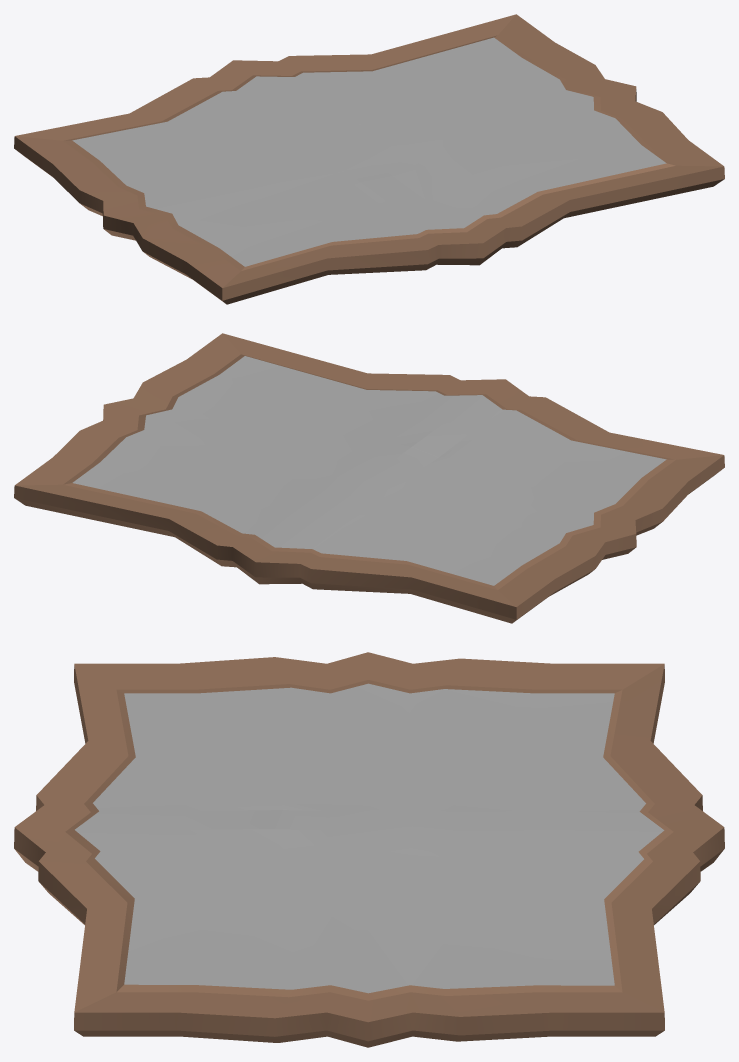
The model's file is mirror_sc.fbx.
3 views of the same model, one above another, from view 1: azimuth 30°, elevation 25°; view 2: azimuth 150°, elevation 25°; view 3: azimuth 270°, elevation 25° (orthographic). The views are drawn at different scales.
Parts seen in each view (by area): view 1: pCube1; view 2: pCube1; view 3: pCube1.
Part boxes in pixels (x1,y1,x2,y2): pCube1: [14, 14, 724, 304]; pCube1: [14, 333, 724, 623]; pCube1: [14, 652, 724, 1047].
Size of the model in its own units: 13.56 by 0.6319 by 11.02.
